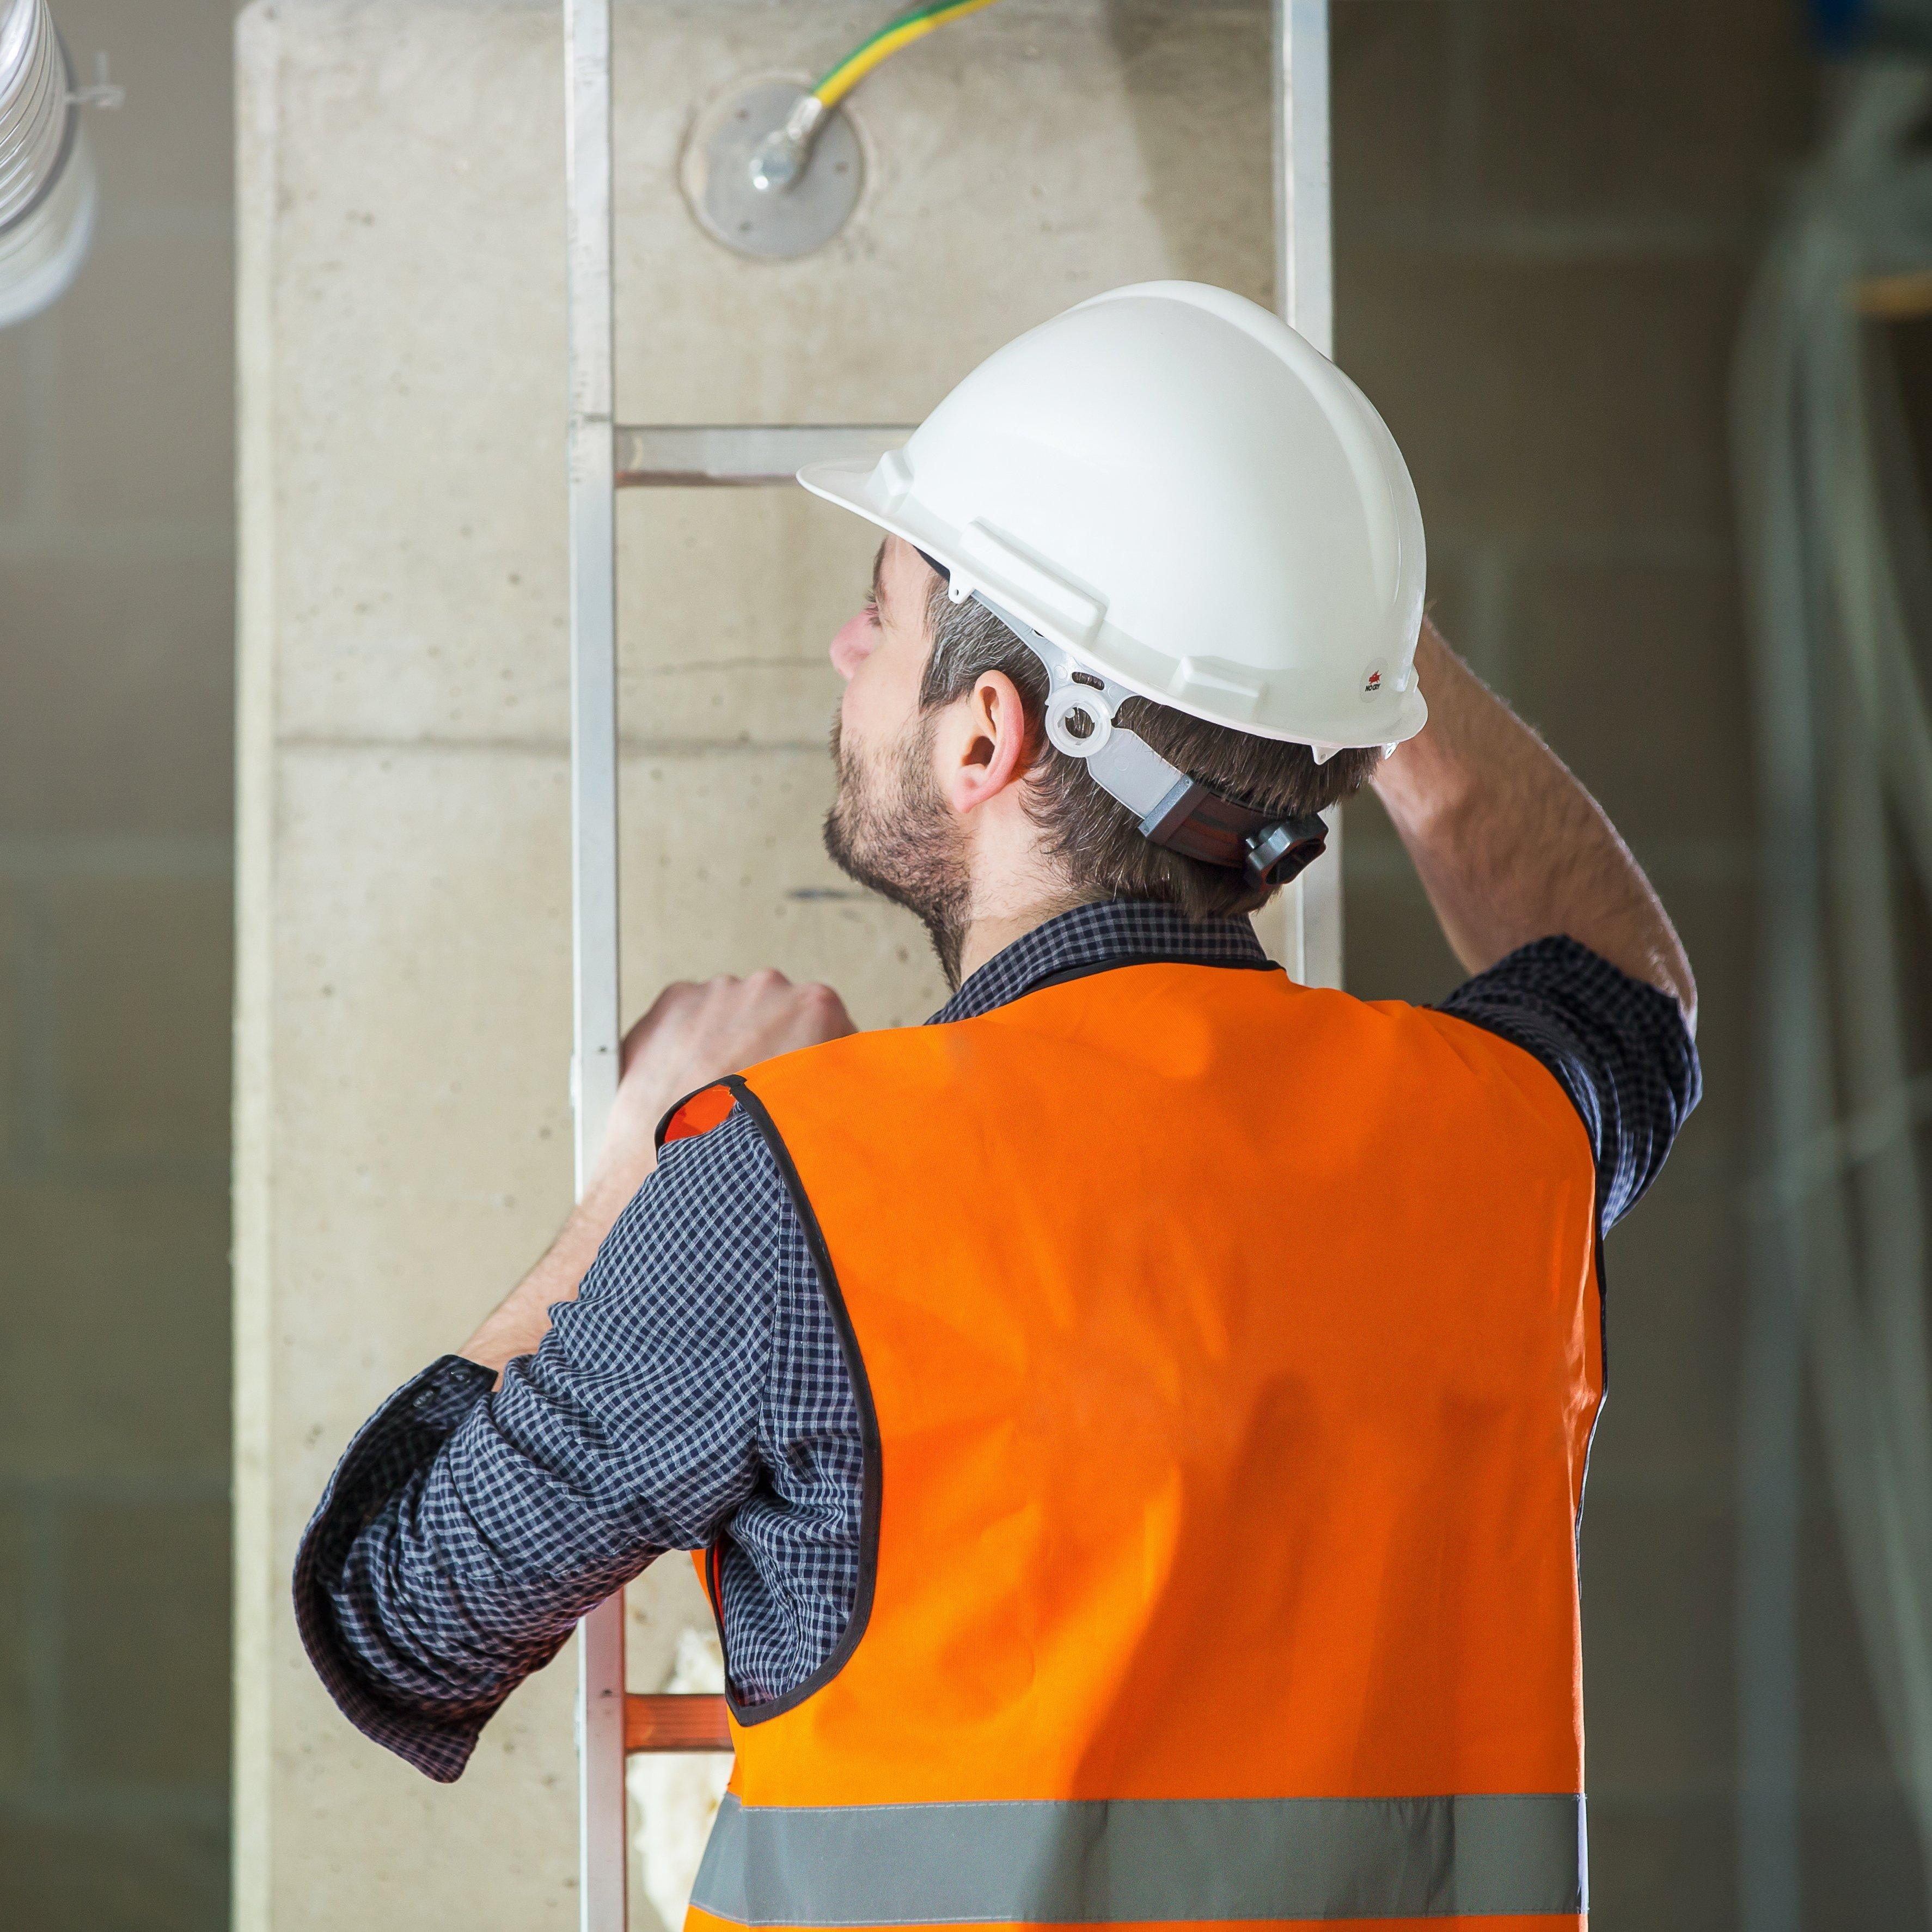helmet: (810, 278, 1442, 770)
